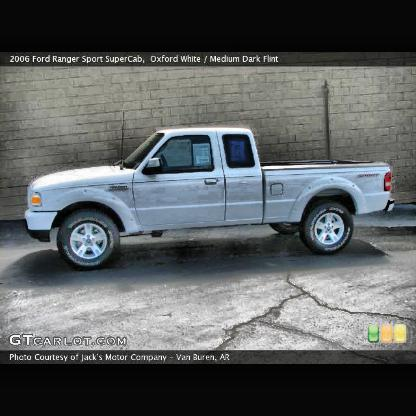Ford Ranger SuperCab 2011: (25, 127, 398, 270)
